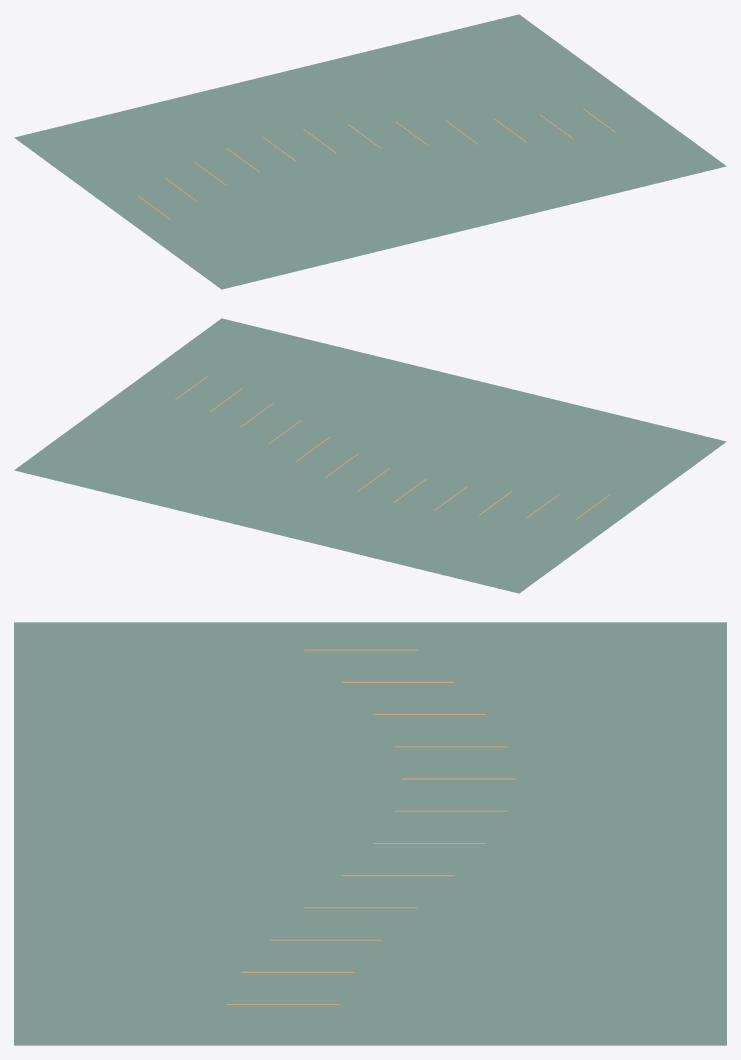
Rendered from 273_L119_L24_LayerReference.glb.
3 renders of one model, top to bottom at view 1: azimuth 30°, elevation 25°; view 2: azimuth 150°, elevation 25°; view 3: azimuth 270°, elevation 25°, orthographic. The views are drawn at different scales.
Visible parts, largest first — view 1: 0000__PSMAT__dielectric; view 2: 0000__PSMAT__dielectric; view 3: 0000__PSMAT__dielectric.
Boxes of the visible parts, x1,y1,x2,y2 form: 0000__PSMAT__dielectric: [14, 14, 726, 289]; 0000__PSMAT__dielectric: [14, 318, 726, 593]; 0000__PSMAT__dielectric: [14, 622, 726, 1045].
Bounding box in the file's own units: 0.486 × 7.6e-05 × 0.346.
